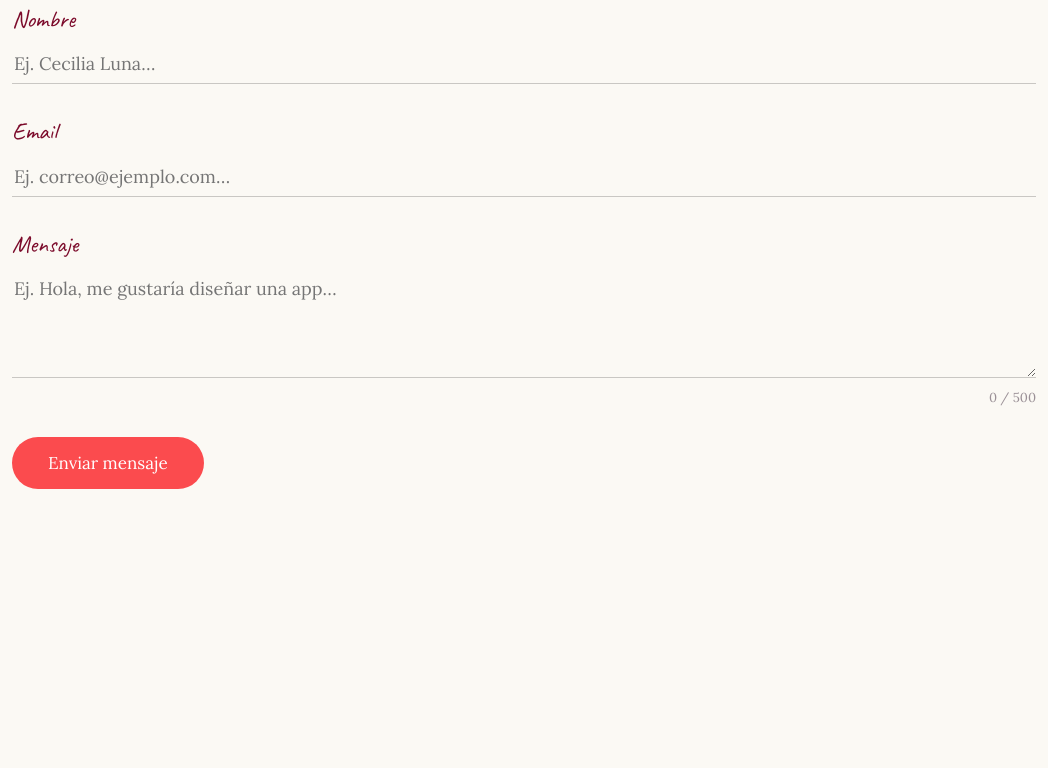
Test case: ContactForm › muestra errores de validación cuando se envía vacío
Click the button "Enviar mensaje".
click(108, 463)  # box 12,437 -> 204,489
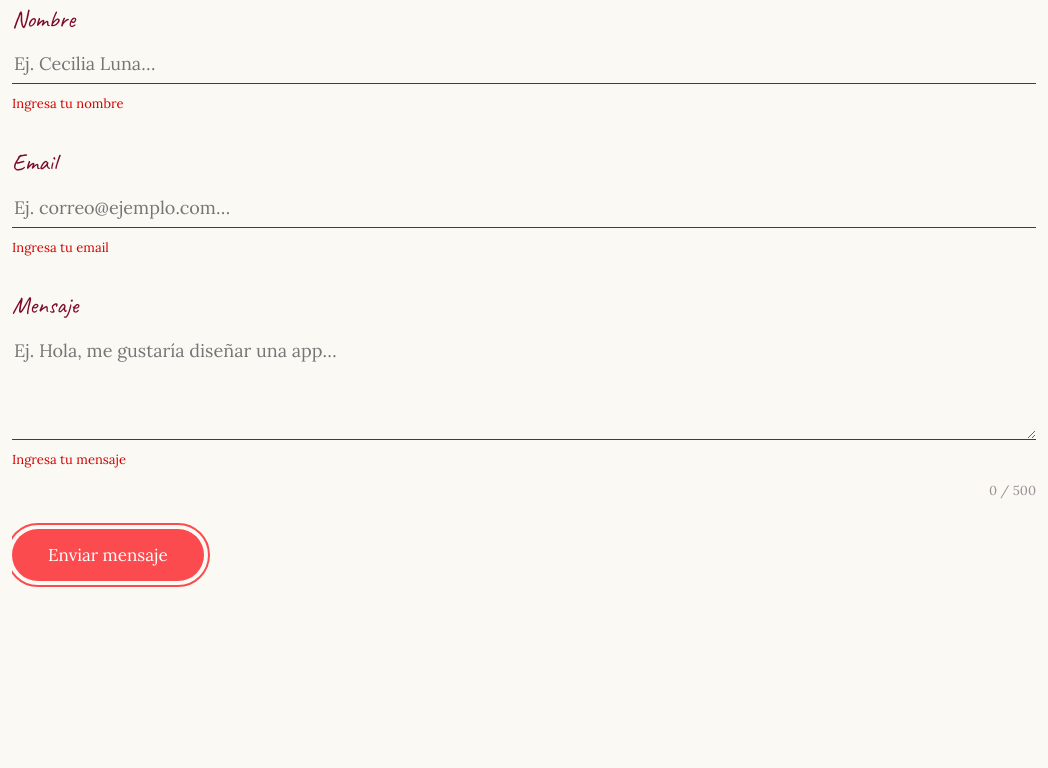
expect the text "Ingresa tu nombre" is shown: met, box 12,95 -> 124,112
expect the text "Ingresa tu email" is shown: met, box 12,239 -> 109,256
expect the text "Ingresa tu mensaje" is shown: met, box 12,451 -> 126,468
